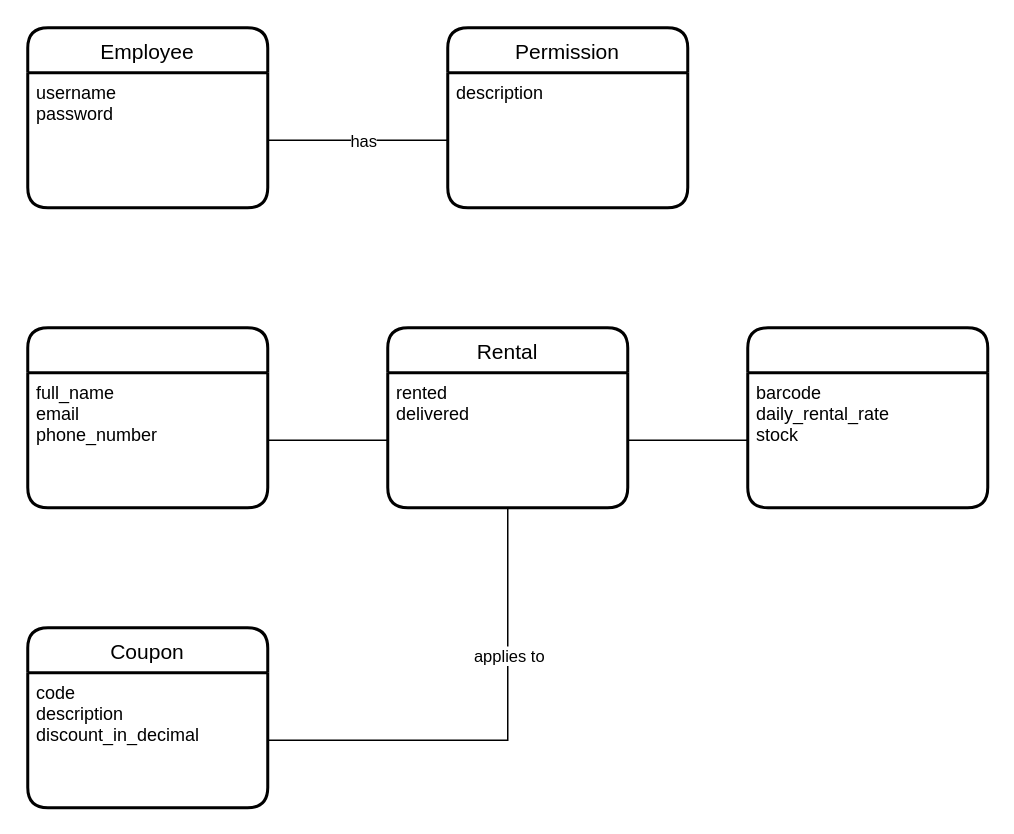
Some shapes in this 1014 by 834 pixel diagram are drawn without their labels. Each missing label, with the box of its shape:
Customer: (26, 326, 268, 508)
Movie: (746, 326, 988, 508)
